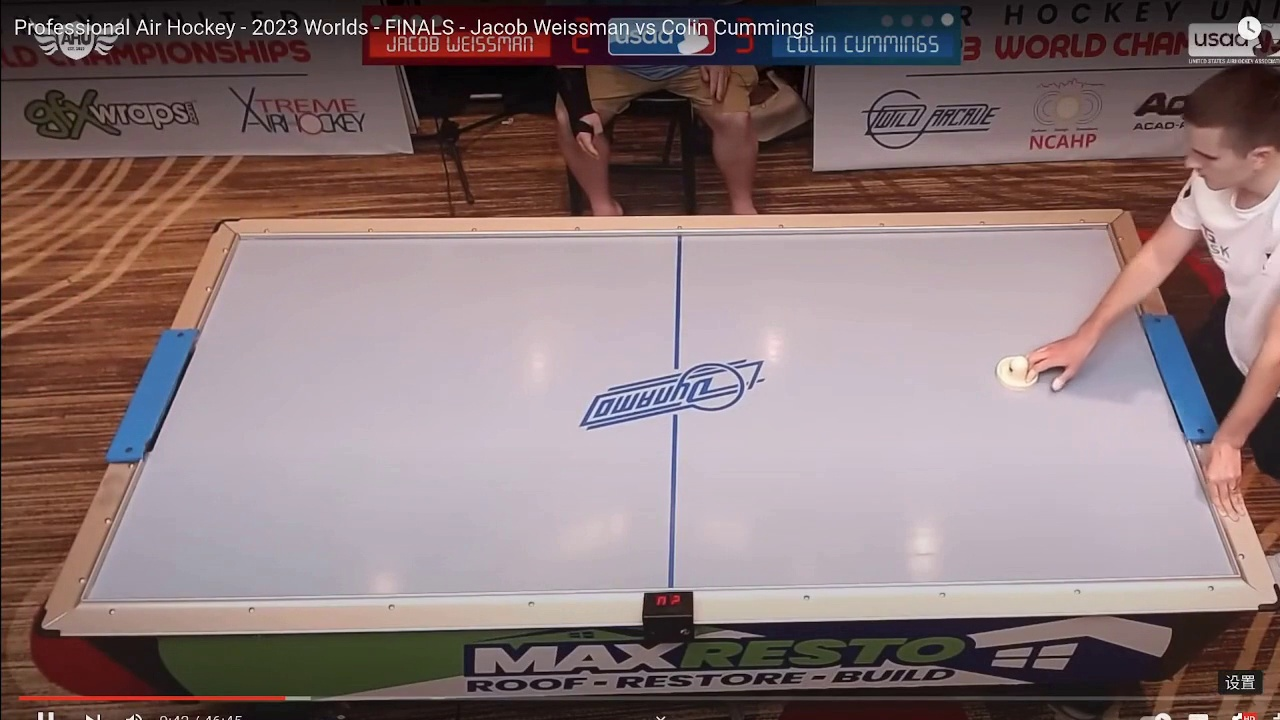player: (993, 346, 1043, 390)
table: (52, 200, 1280, 614)
